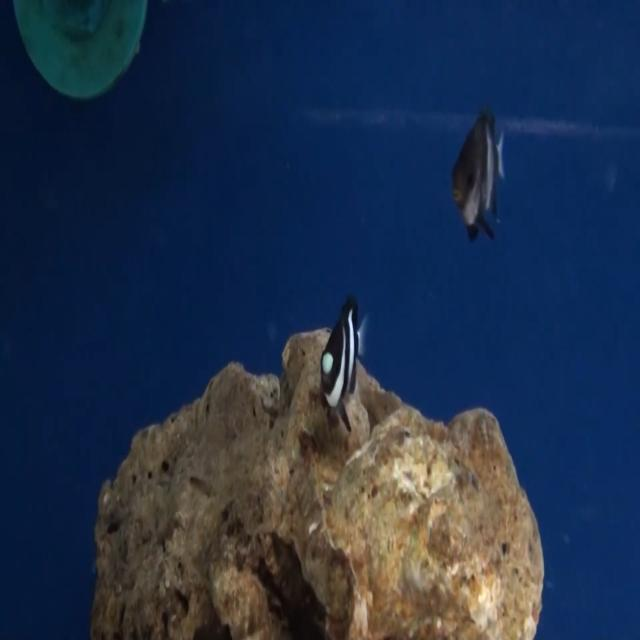ThreeStripedDamselfish: (448, 108, 509, 260), (318, 288, 369, 435)
